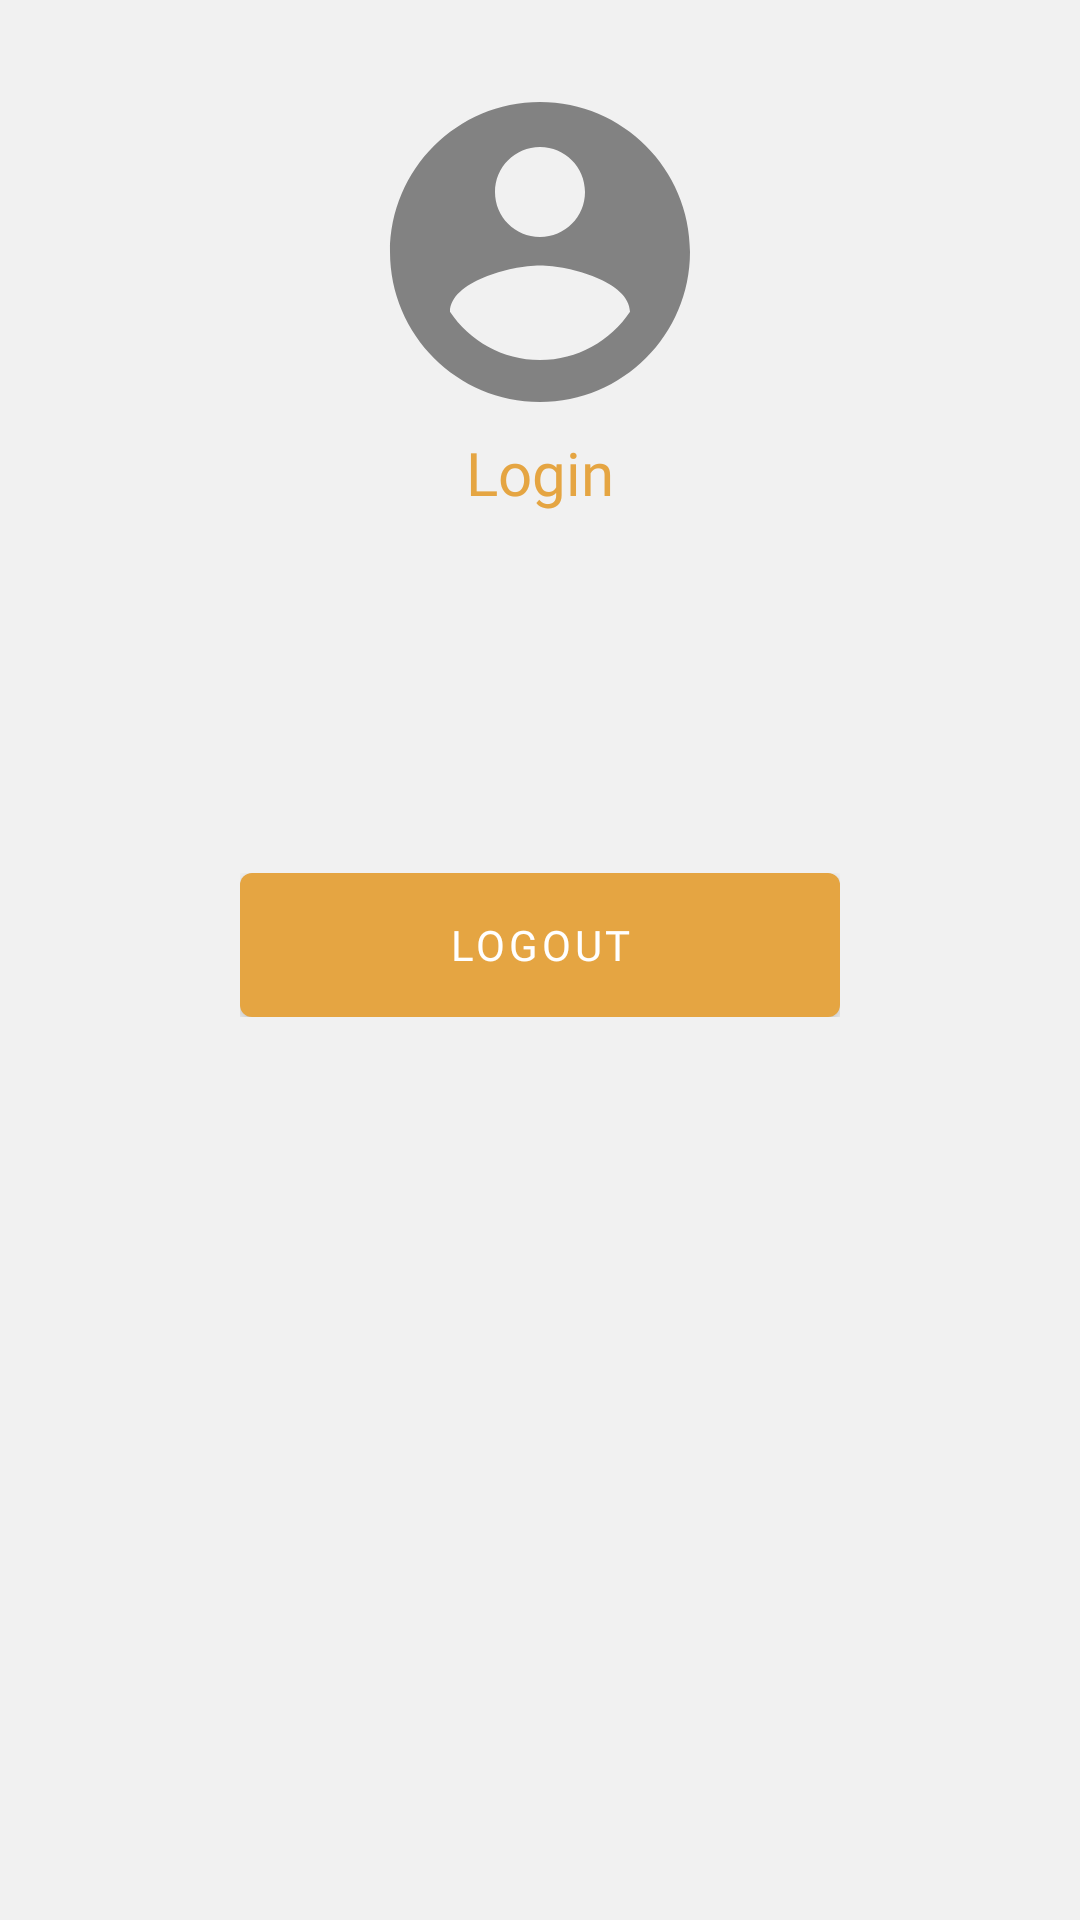

Icon bounding boxes for this 1080 x 1920 phone screenshot, format detection(x1, y1, x2, y2):
account circle: detection(390, 102, 690, 402)
